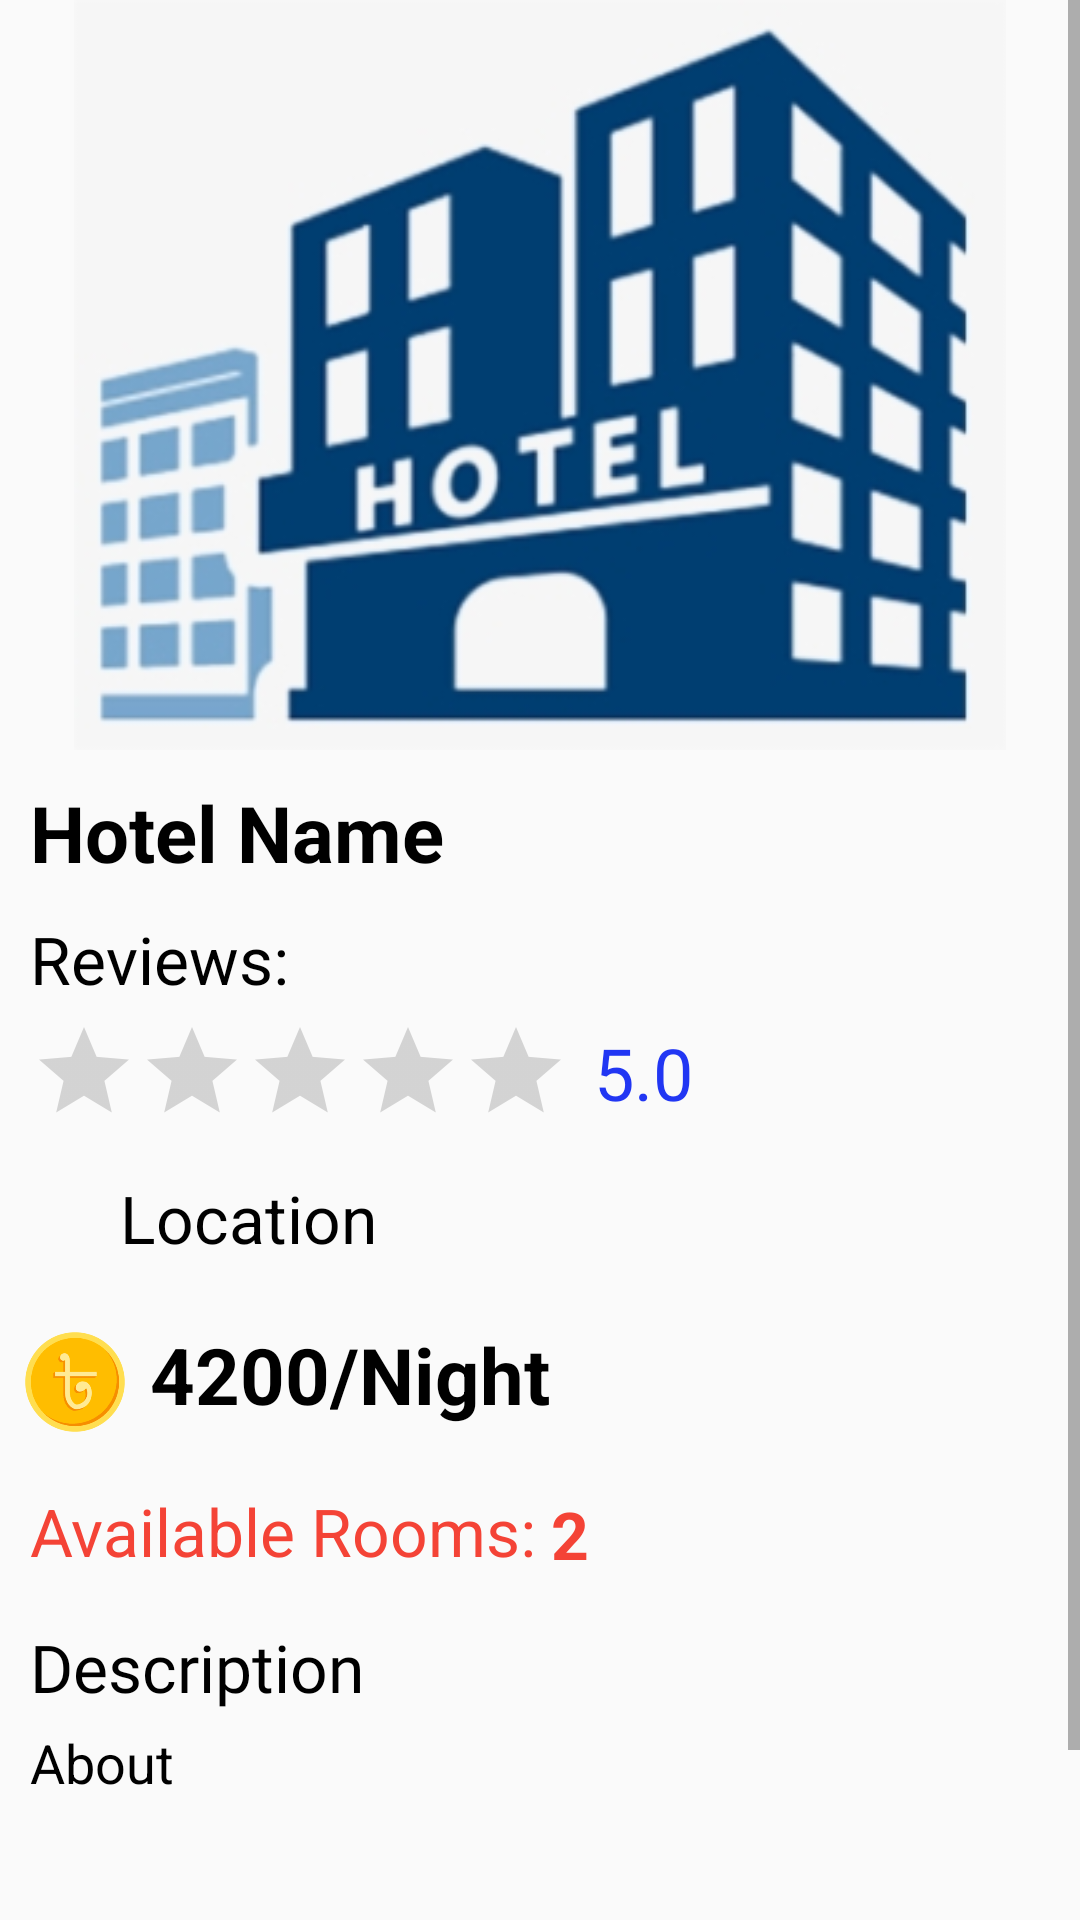

Where icons sit on this 1080 × 1920 app screen, as [x1,y1,x2,y2]:
taka: [25,1332,125,1432]
